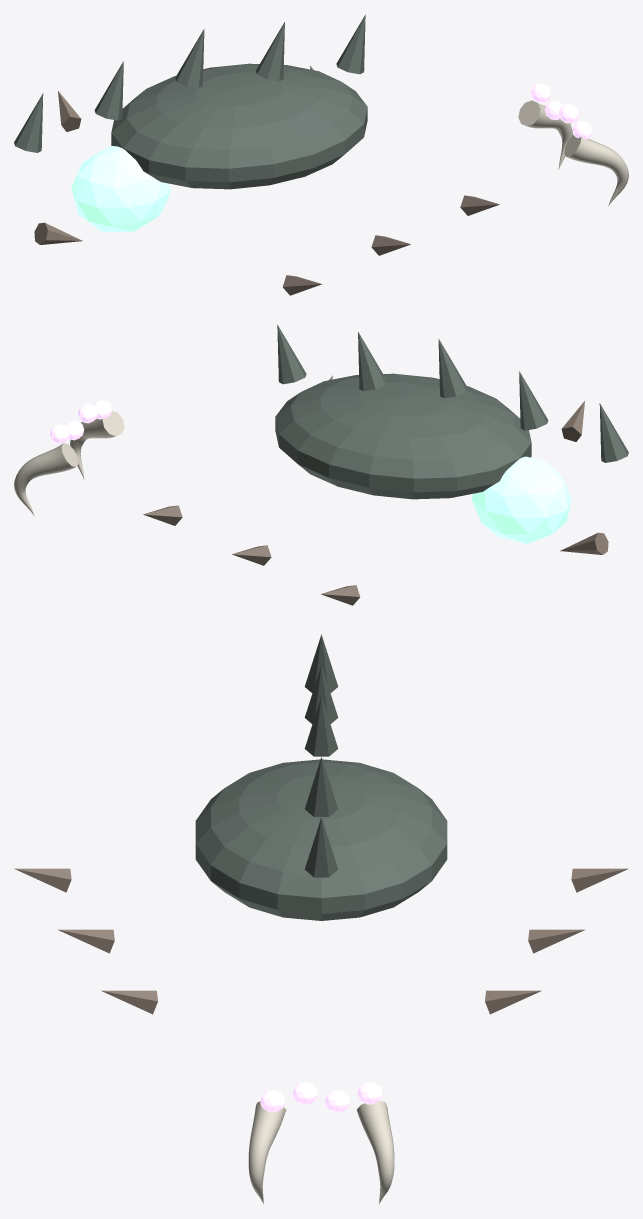
The model's file is mob_spider-decor.glb.
The picture shows the model from 3 angles, top to bottom: view 1: azimuth 30°, elevation 25°; view 2: azimuth 150°, elevation 25°; view 3: azimuth 270°, elevation 25°; orthographic projection. The views are drawn at different scales.
Visible parts, largest first — view 1: mob_spider_decor; view 2: mob_spider_decor; view 3: mob_spider_decor.
Part boxes in pixels (x1,y1,x2,y2): mob_spider_decor: (14, 14, 628, 295); mob_spider_decor: (14, 324, 628, 605); mob_spider_decor: (14, 634, 628, 1204).
Bounding box in the file's own units: 1.09 × 0.4502 × 0.8535.
